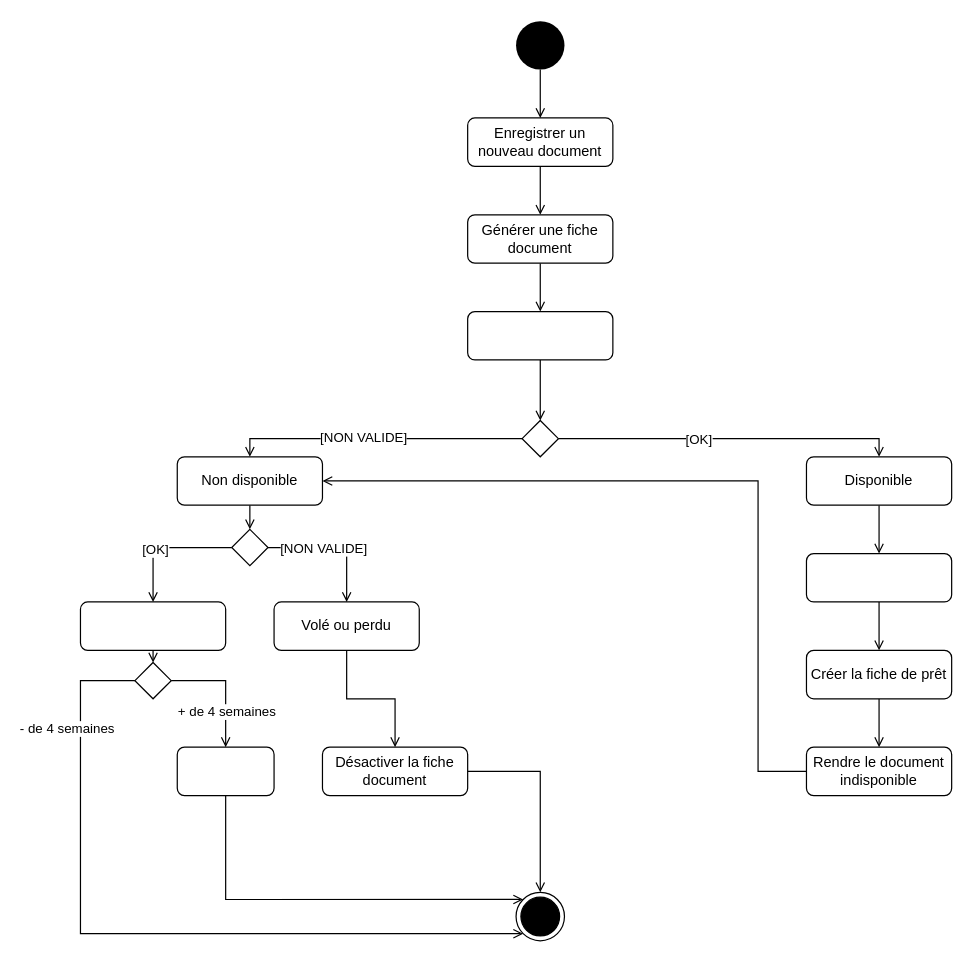
Some shapes in this 974 by 964 pixel diagram are drawn without their labels. Here are the shapes that lost their labels. From the top down, the box of each, then its label:
(466, 310, 613, 360): Demande d'un usager
(805, 552, 952, 602): Enregistrer l'emprunt
(79, 601, 226, 650): Emprunté
(176, 746, 274, 796): Lettre de relance
